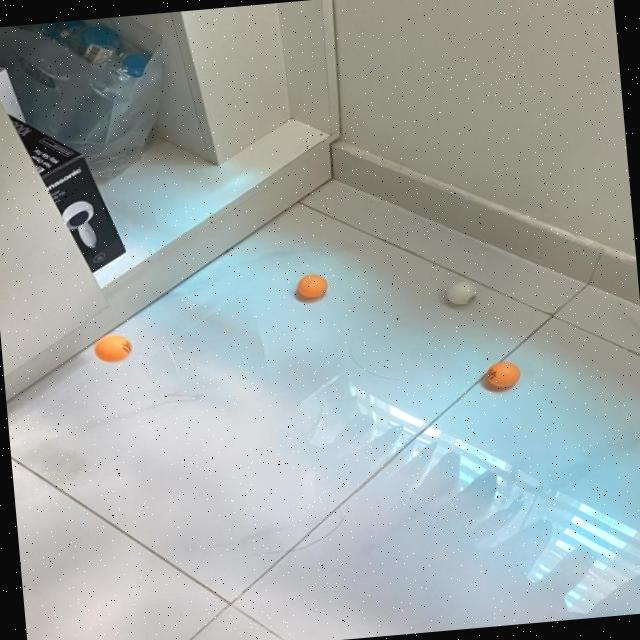ping-pong-ball: (94, 331, 132, 364), (486, 358, 524, 389), (444, 278, 478, 307), (298, 272, 330, 298)
